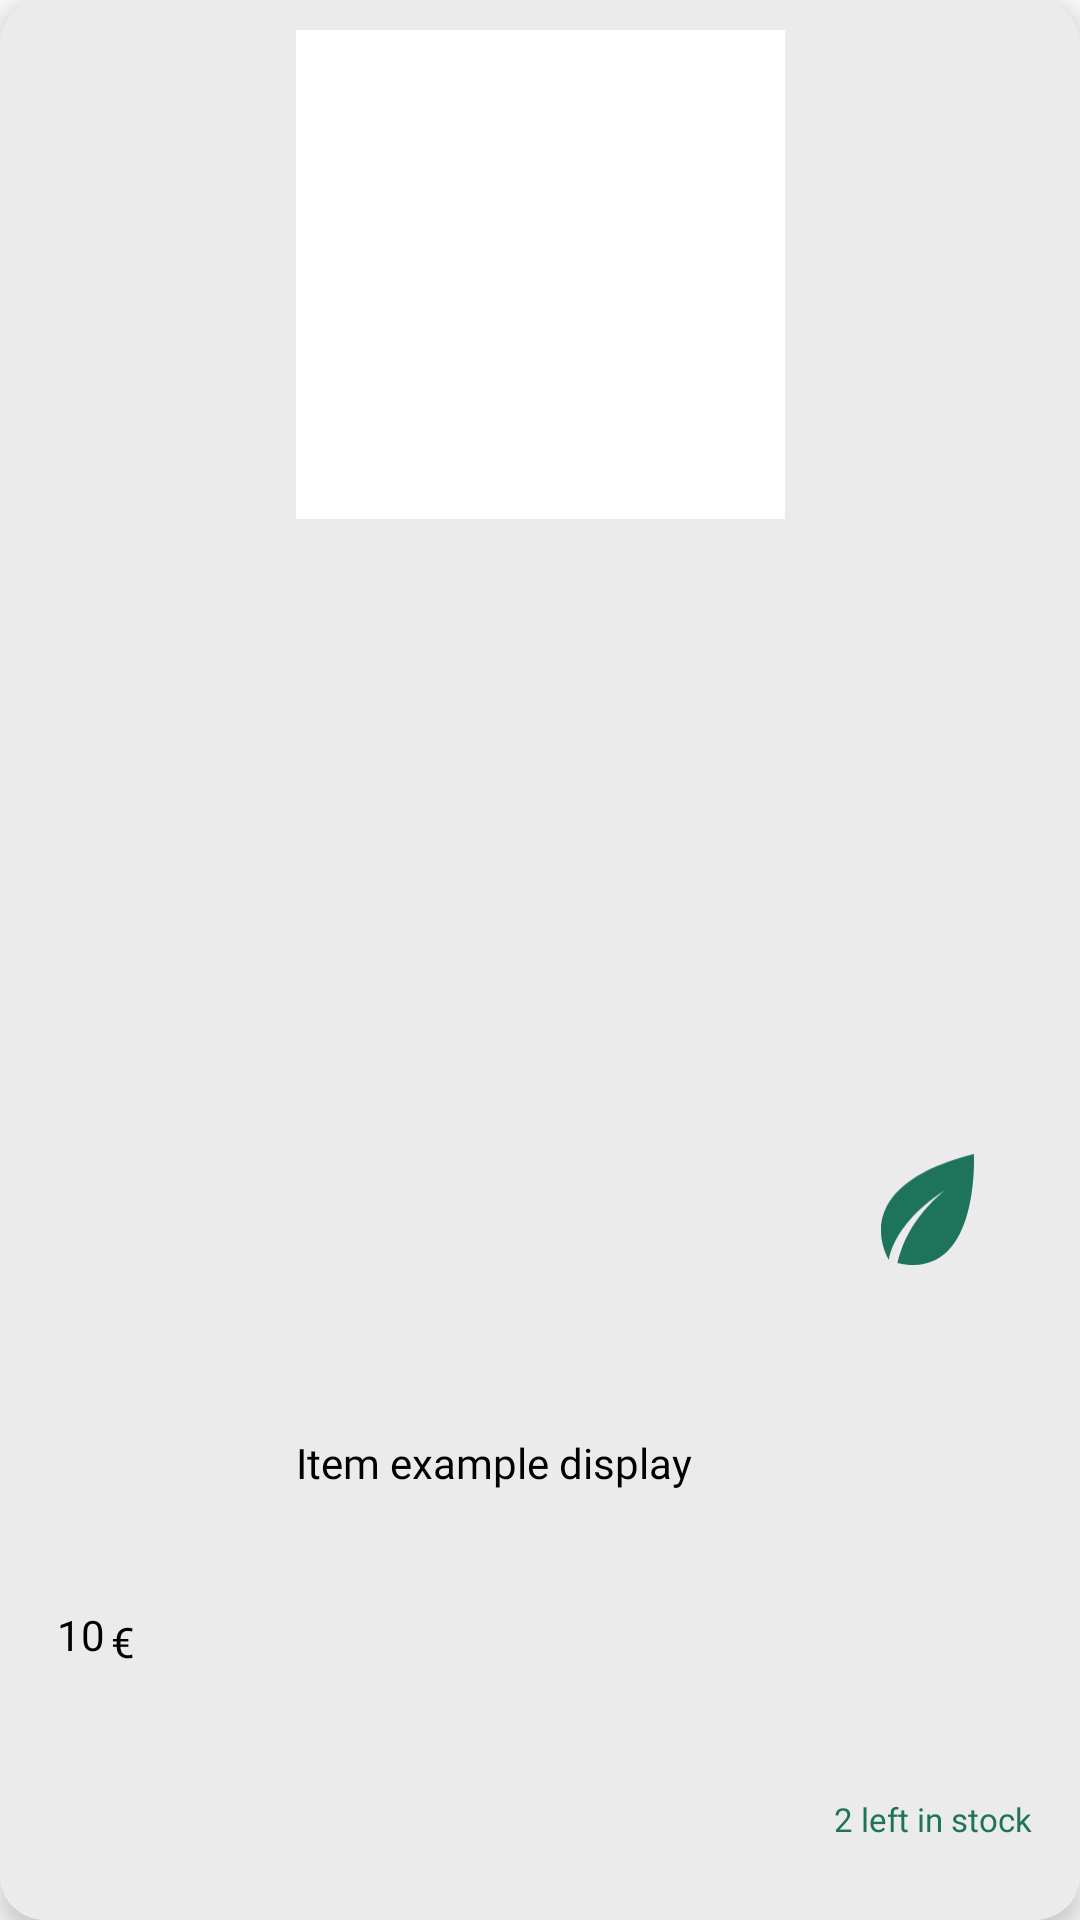

Named icons in this screenshot (1080x1920) and their centers, point (x, y):
hoja verde: point (927, 1209)
